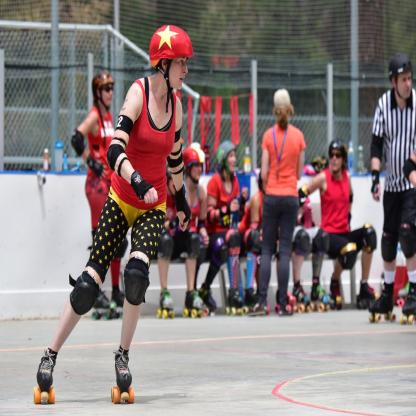Helmet: (148, 21, 192, 95), (389, 54, 412, 104), (91, 73, 114, 112), (216, 142, 236, 178), (183, 146, 201, 185), (330, 140, 348, 165)
